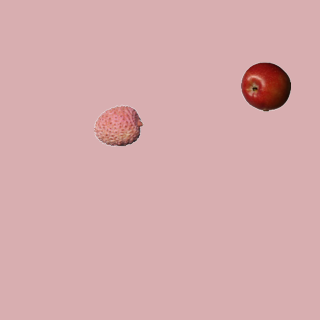Apple Braeburn: (240, 61, 290, 111)
Lychee: (93, 100, 143, 150)
